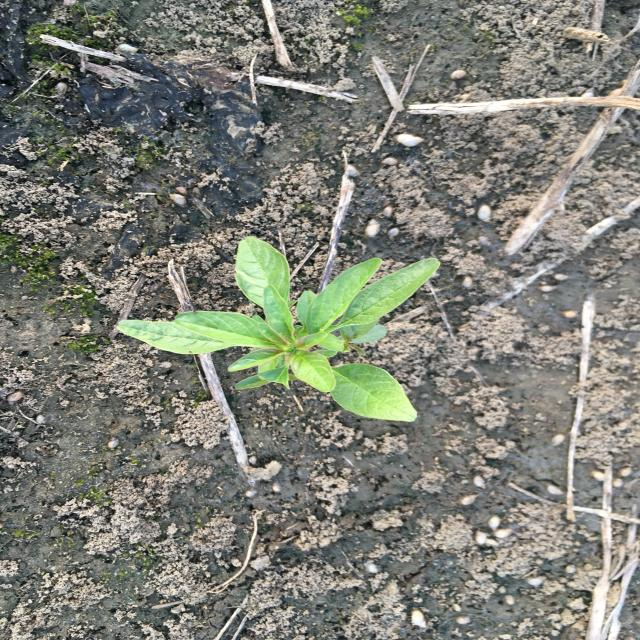Waterhemp: (114, 234, 442, 425)
